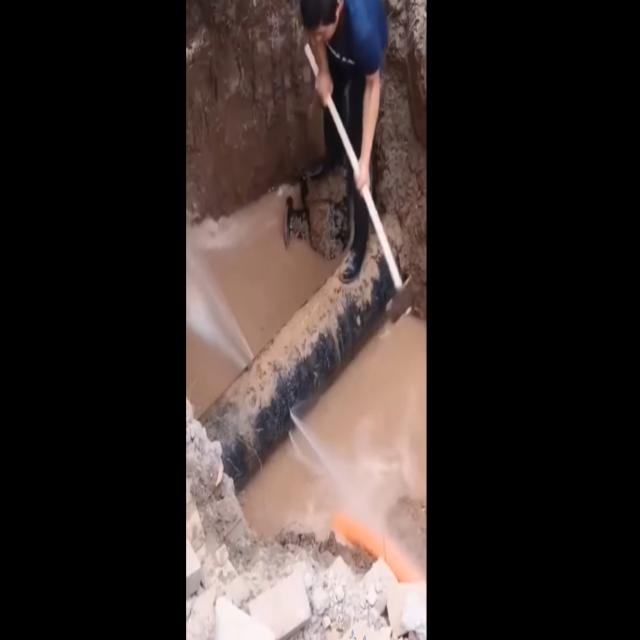leak: (291, 413, 409, 531), (186, 247, 254, 370)
